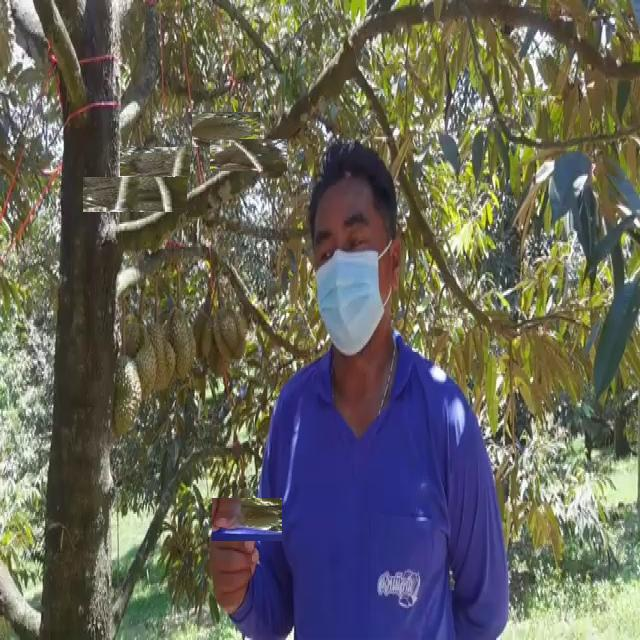durian: (100, 159, 170, 229), (218, 491, 275, 548), (221, 127, 276, 182), (110, 352, 141, 444), (200, 104, 251, 155), (130, 136, 180, 186), (165, 308, 198, 380), (147, 322, 176, 399), (138, 181, 168, 253), (132, 326, 159, 403), (215, 304, 243, 362), (120, 306, 146, 360), (195, 305, 218, 362)
